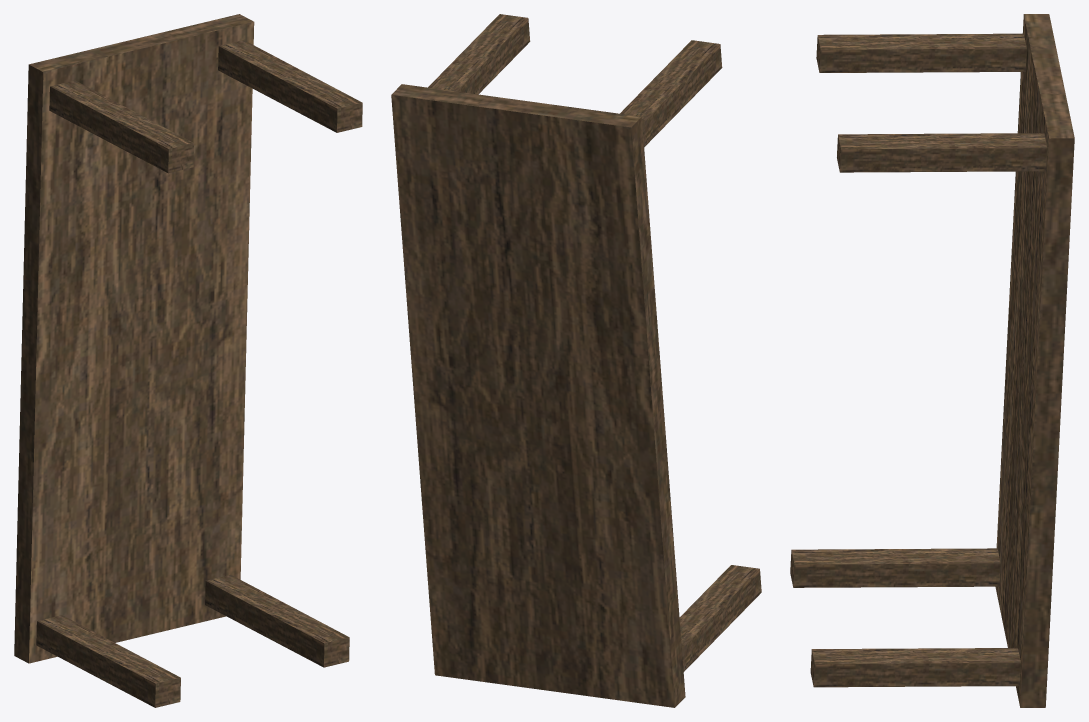
Rendered from SM_Table00.fbx.
The picture shows the model from 3 angles, left to right: view 1: azimuth 30°, elevation 25°; view 2: azimuth 150°, elevation 25°; view 3: azimuth 270°, elevation 25°; orthographic projection.
Parts seen in each view (by area): view 1: SM_Table00; view 2: SM_Table00; view 3: SM_Table00.
Boxes of the visible parts, left/top/right/bottom form: SM_Table00: left=14, top=14, right=362, bottom=707; SM_Table00: left=391, top=14, right=761, bottom=707; SM_Table00: left=790, top=14, right=1074, bottom=707.
Bounding box in the file's own units: 1.23 × 2.65 × 1.14.
1 material, 1 textured.
